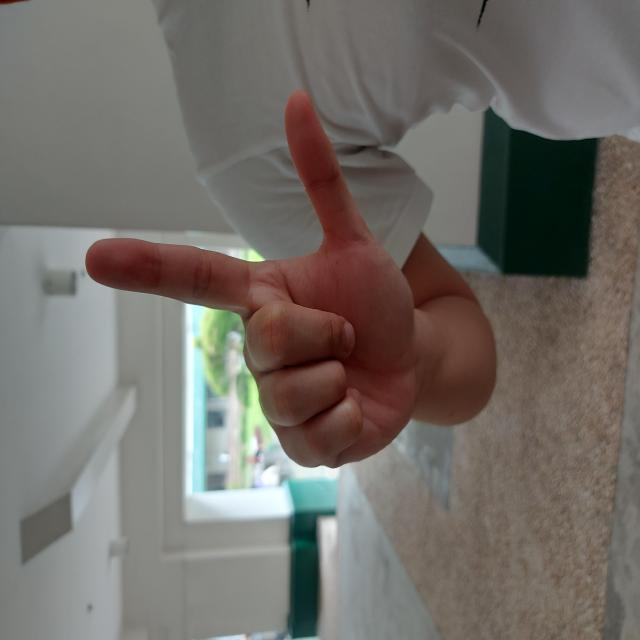L: (168, 83, 555, 418)
